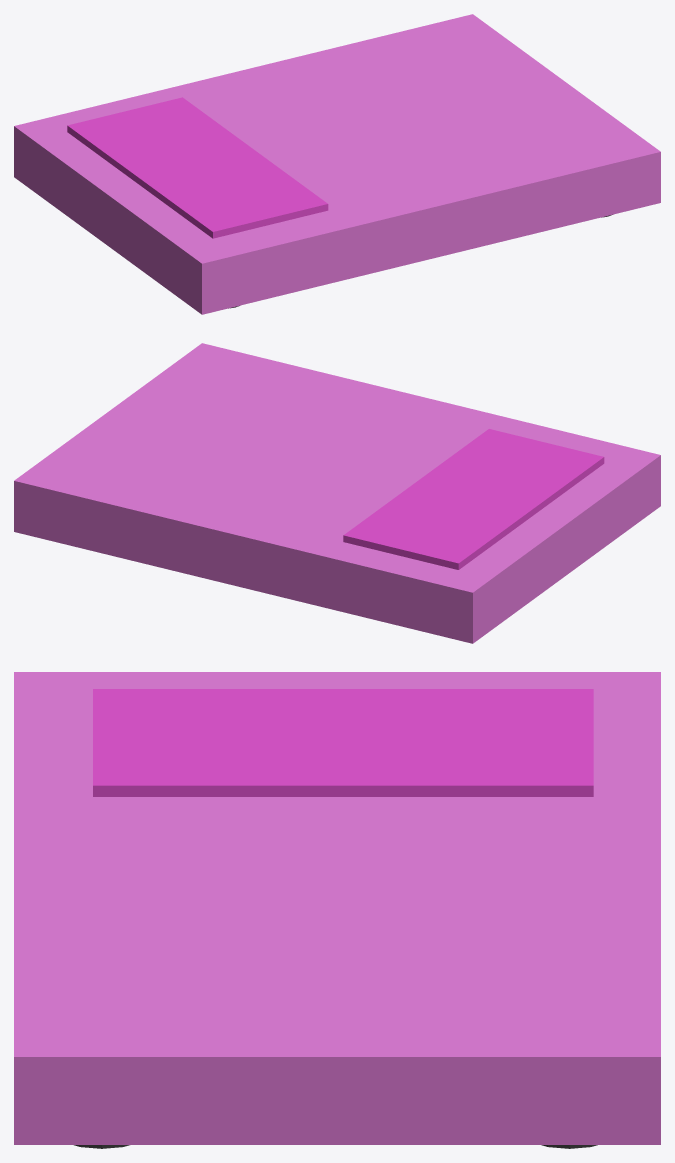
The picture shows the model from 3 angles, top to bottom: view 1: azimuth 30°, elevation 25°; view 2: azimuth 150°, elevation 25°; view 3: azimuth 270°, elevation 25°; orthographic projection. The views are drawn at different scales.
Parts seen in each view (by area): view 1: Cube.003; view 2: Cube.003; view 3: Cube.003.
Boxes of the visible parts, left/top/right/bottom form: Cube.003: left=14, top=14, right=660, bottom=314; Cube.003: left=14, top=343, right=660, bottom=643; Cube.003: left=14, top=672, right=660, bottom=1148.
Size of the model in its own units: 88.39 by 12.46 by 62.76.
